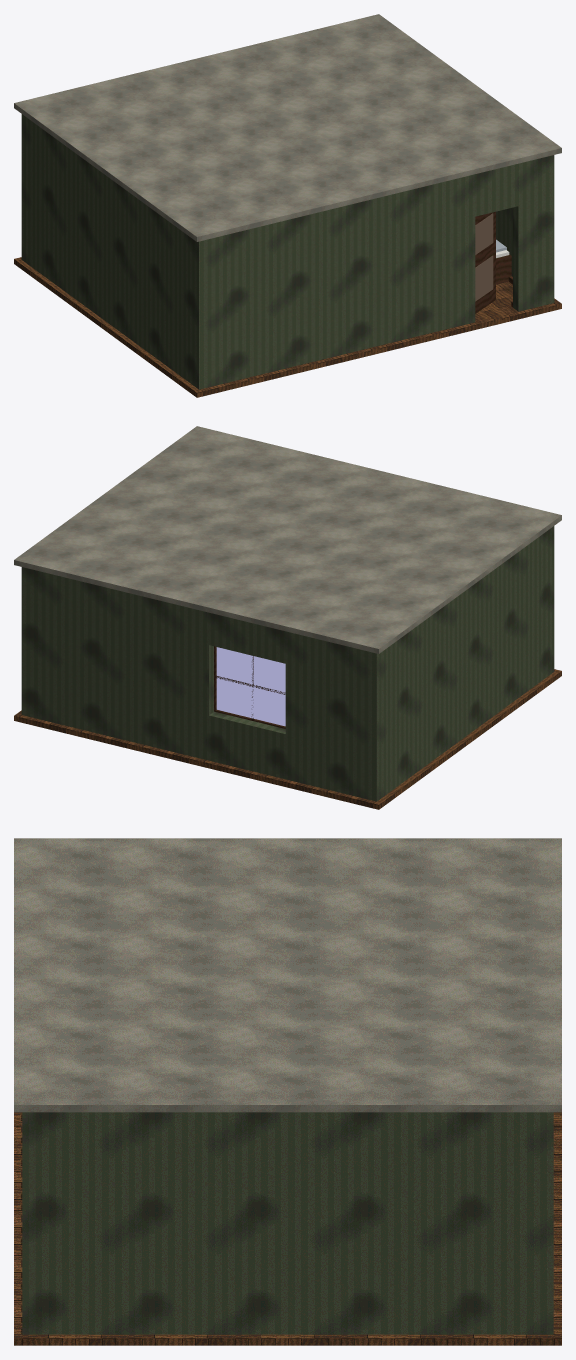
The model's file is ep_apt_irina.glb.
3 views of the same model, one above another, from view 1: azimuth 30°, elevation 25°; view 2: azimuth 150°, elevation 25°; view 3: azimuth 270°, elevation 25° (orthographic). The views are drawn at different scales.
Visible parts, largest first — view 1: wallpaper-col, plaster-col, parquet-col, flat, wood_dark; view 2: wallpaper-col, plaster-col, parquet-col, flat.002, wood_dark; view 3: plaster-col, wallpaper-col, parquet-col.
Boxes of the visible parts, <box> form: wallpaper-col: <box>21,114,554,389</box>; plaster-col: <box>14,14,561,241</box>; parquet-col: <box>14,257,561,397</box>; flat: <box>475,213,493,301</box>; wood_dark: <box>475,211,512,313</box>; wallpaper-col: <box>21,526,554,801</box>; plaster-col: <box>14,426,561,653</box>; parquet-col: <box>14,669,561,809</box>; flat.002: <box>216,647,285,726</box>; wood_dark: <box>214,646,285,728</box>; plaster-col: <box>14,838,561,1112</box>; wallpaper-col: <box>22,1112,553,1334</box>; parquet-col: <box>14,1112,561,1345</box>.
Bounding box in the file's own units: 7.6 × 3.2 × 6.6.
Materials: 47 (10 with a texture image).
